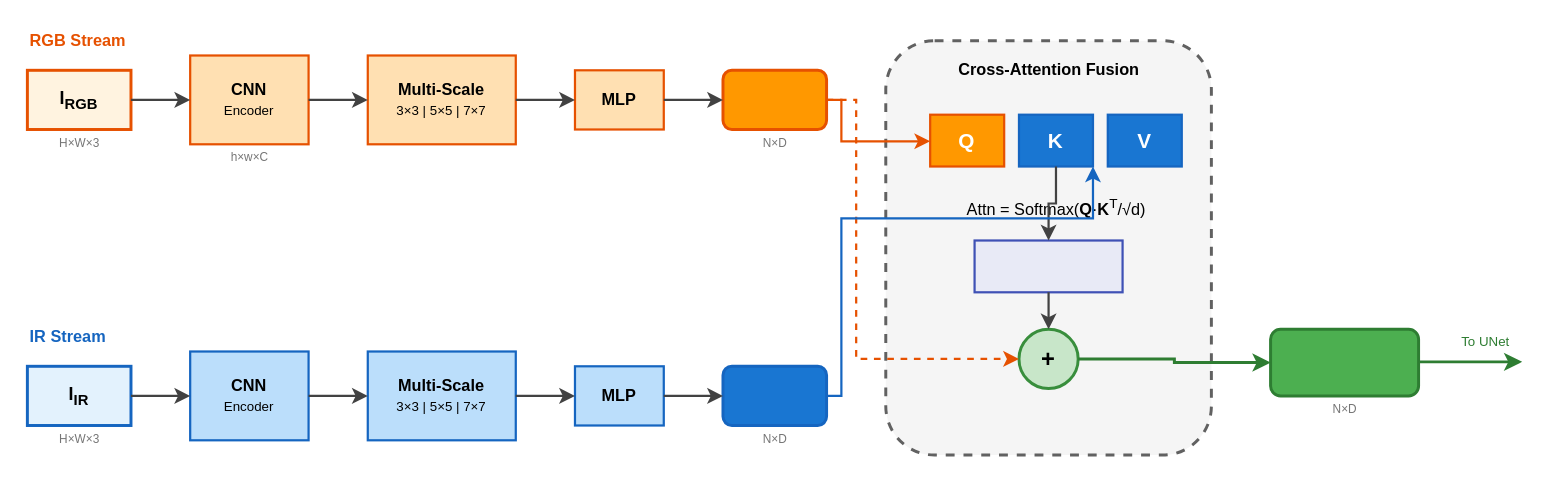
Some shapes in this 1560 by 481 pixel diagram are drawn without their labels. Here are the shapes that lost their labels. From the top down, the centre of each, then its label:
point 774,99: T RGB
point 1048,266: Attention
point 1343,362: Task Tokens T ∈ ℝ N×D
point 774,395: T IR
